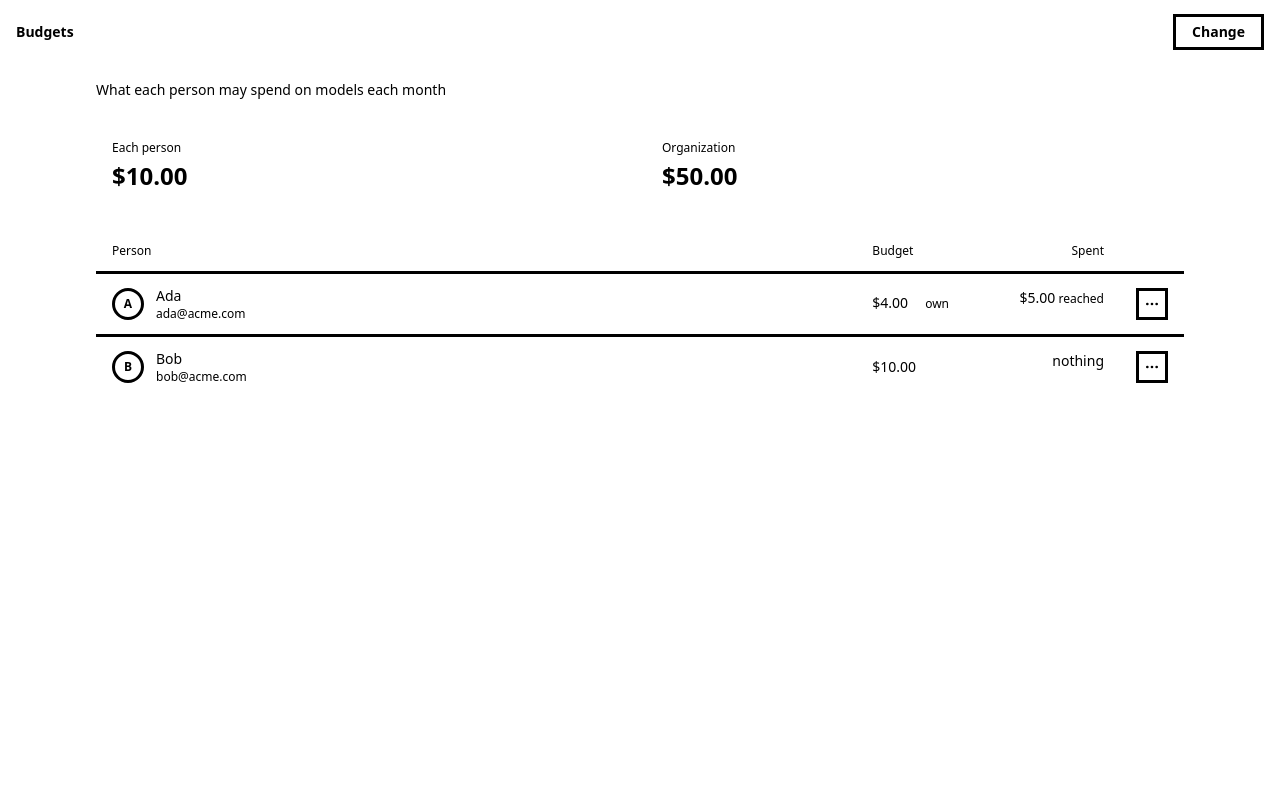
Scenario: budgets › keeps one person's own budget behind the ⋯ on their row
Click the button named "More for Bob": x=1152, y=366 1136,350 -> 1168,382
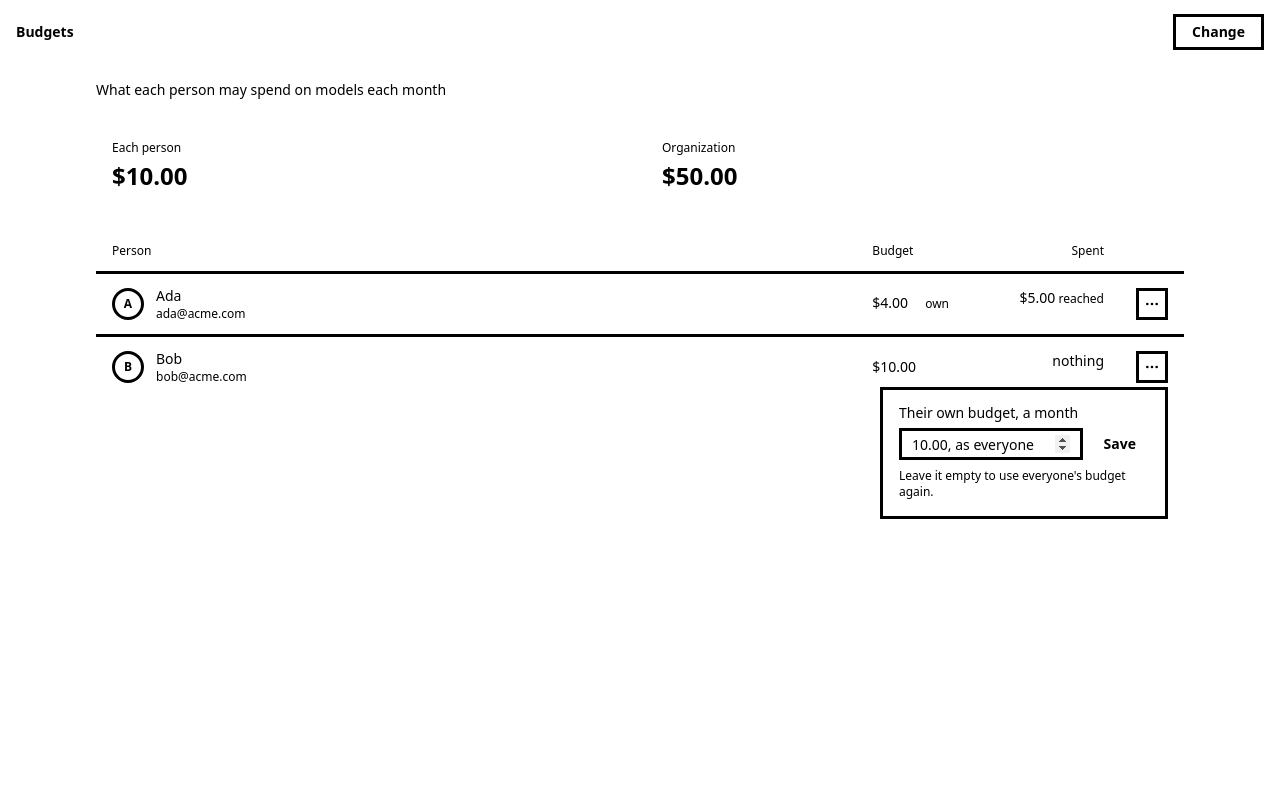
expect the number field labelled "Their own budget, a month" is empty: met, box 899,428 -> 1083,460
